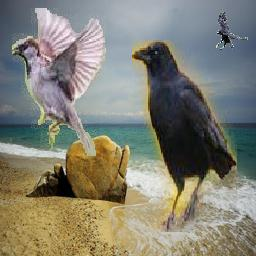Crow: (133, 40, 238, 232), (216, 10, 248, 50)
Sparrow: (10, 8, 106, 156)
